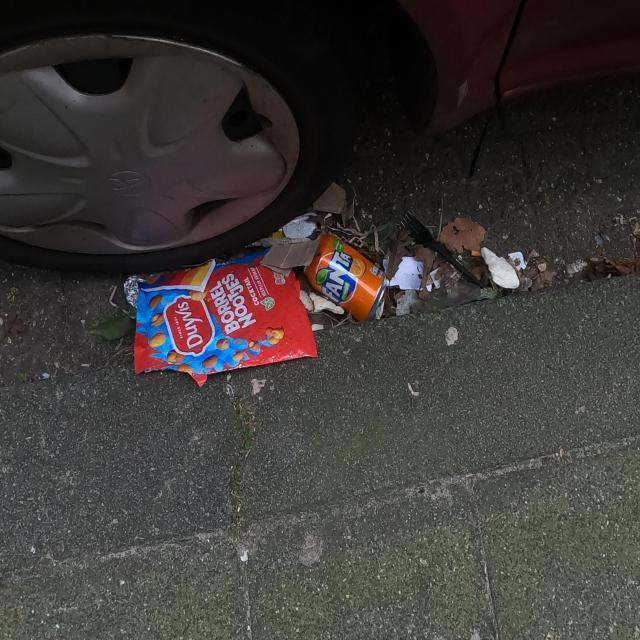Can-Metal: (302, 234, 388, 322)
Paper: (480, 246, 520, 289)
Plastic: (124, 248, 318, 388)
